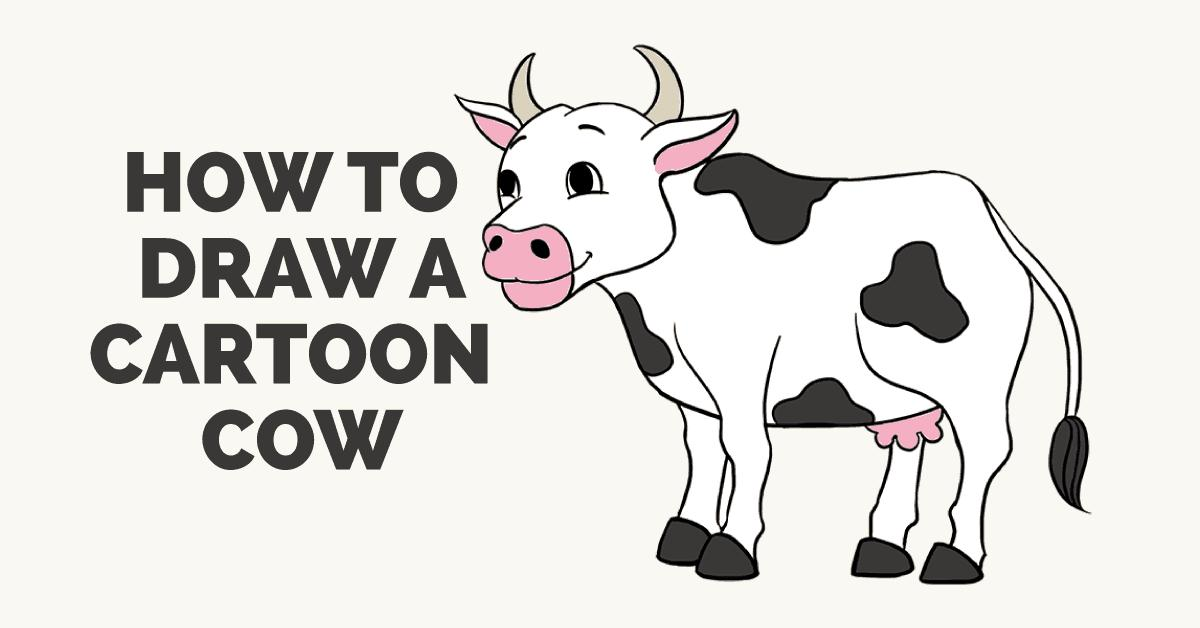cow: (455, 45, 1091, 584)
